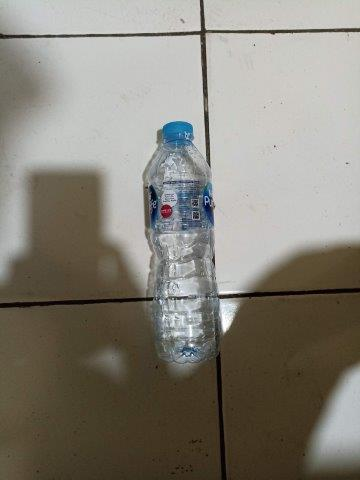botolplastik: (147, 121, 221, 360)
